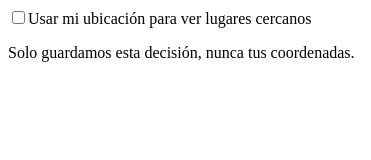
configuración de ubicación (FR-010/014) › permite cambiar la preferencia después
What coordinates should you click on to do the following:
click the checkbox labelled "Usar mi ubicación para ver lugares cercanos"
I would click on:
 (18, 18)
Its box is [12,11,25,24].
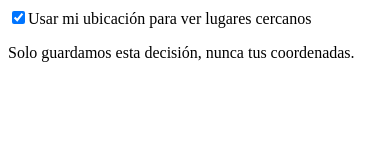
Check: the checkbox labelled "Usar mi ubicación para ver lugares cercanos" is checked, box [12,11,25,24]
